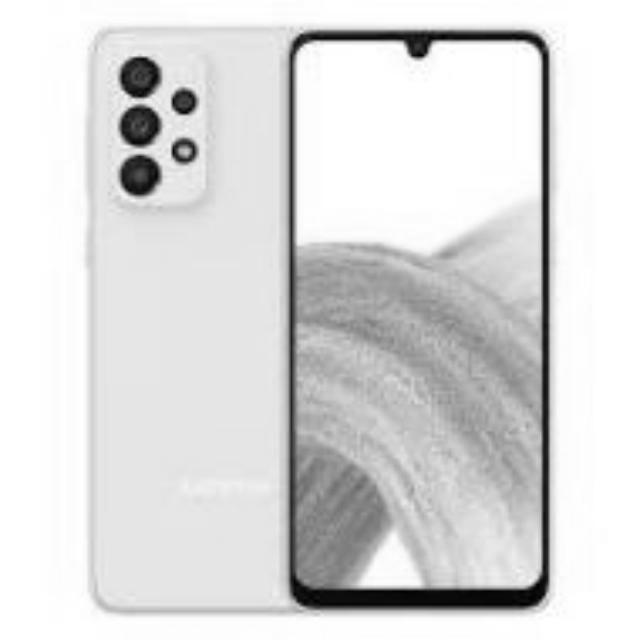fake: (284, 33, 548, 601), (92, 29, 288, 614)
